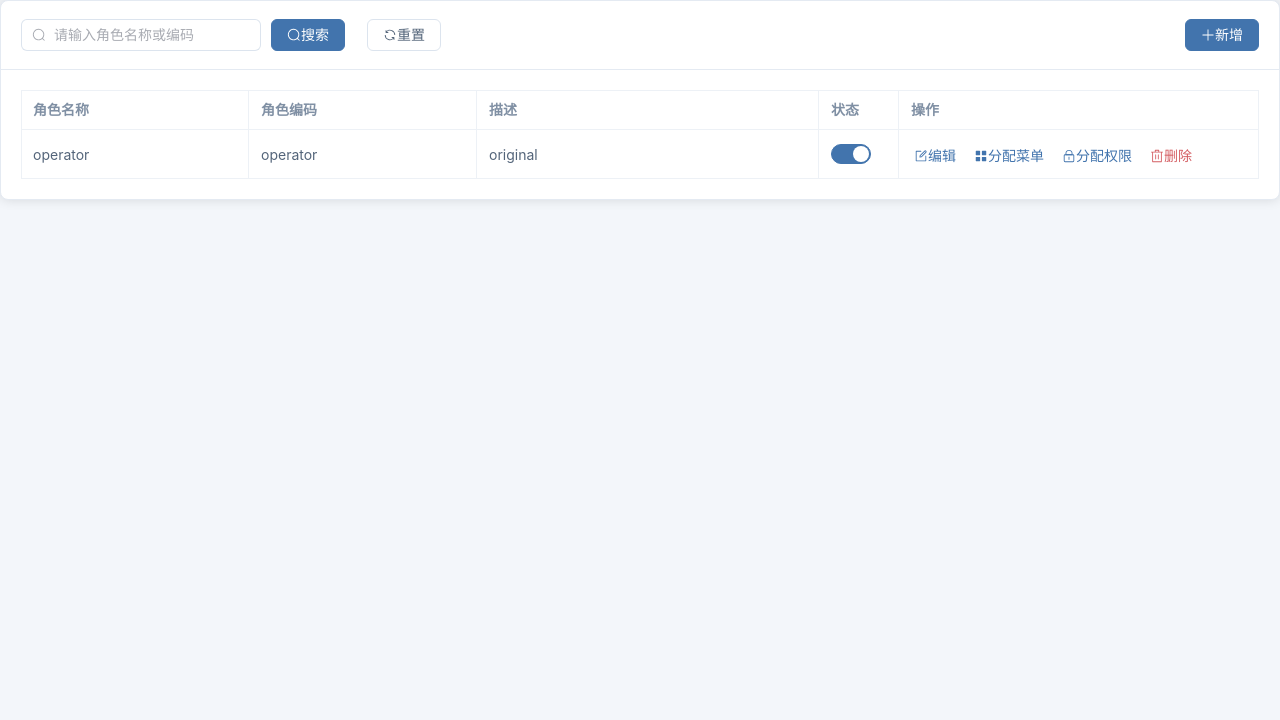
Test: role actions › editing preserves the readonly code and sends the modified description
The width and height of the screenshot is (1280, 720).
Click the button "编辑": [935, 156] box x1=911 y1=146 x2=959 y2=166
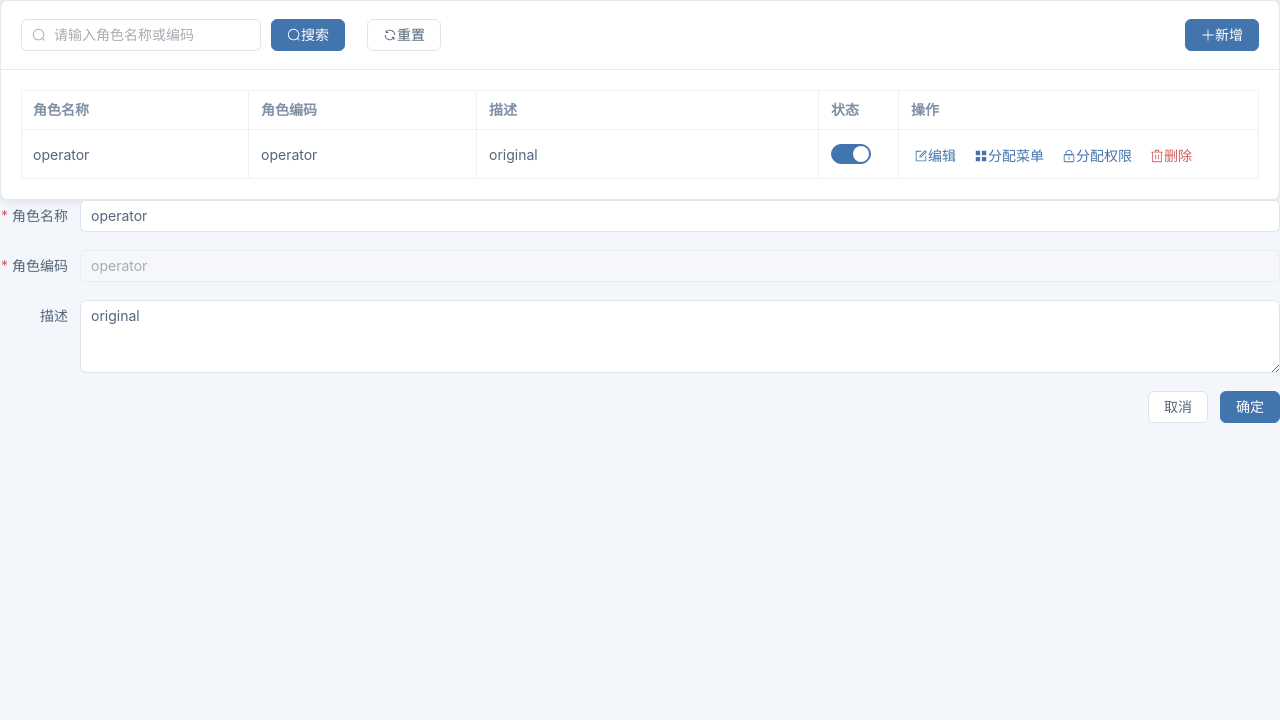
Now the field with placeholder "角色编码" is disabled, box x1=91 y1=251 x2=1269 y2=281
Replace the text in the text box with placeholder "描述" with "Changed description": [680, 336] box x1=80 y1=300 x2=1279 y2=373
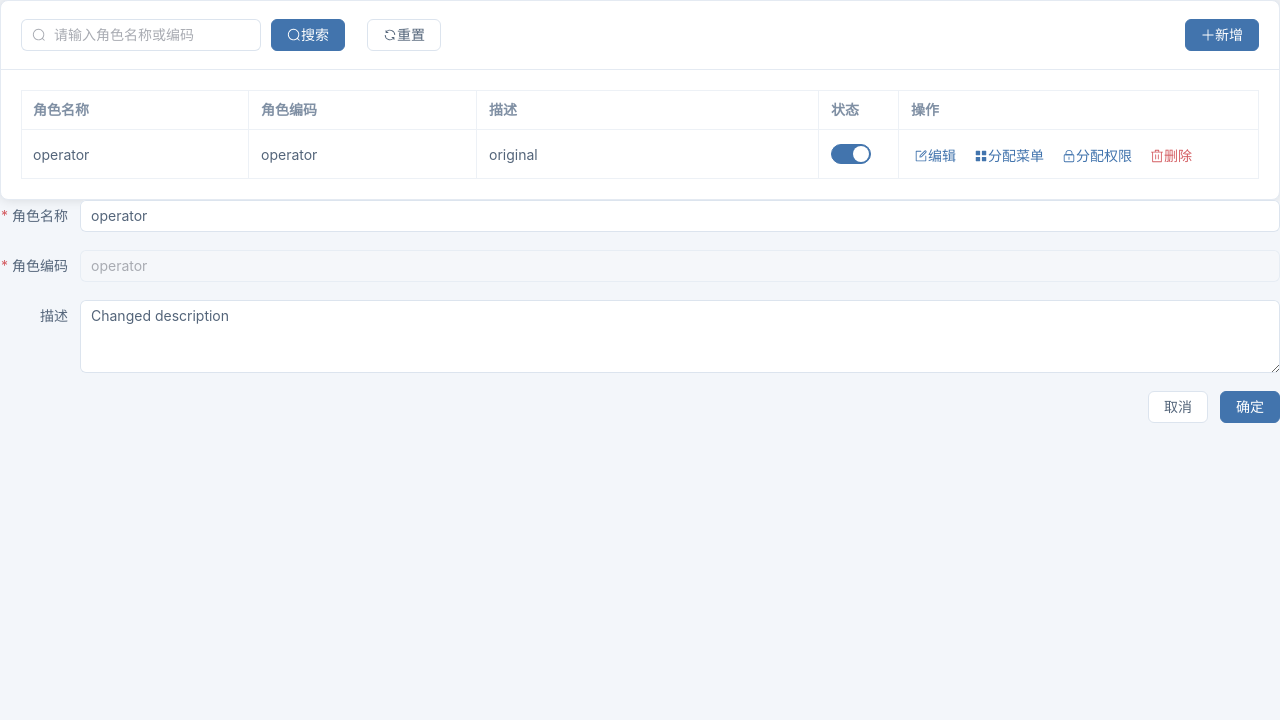
Click the button "确定": [1250, 407] box x1=1220 y1=391 x2=1279 y2=423
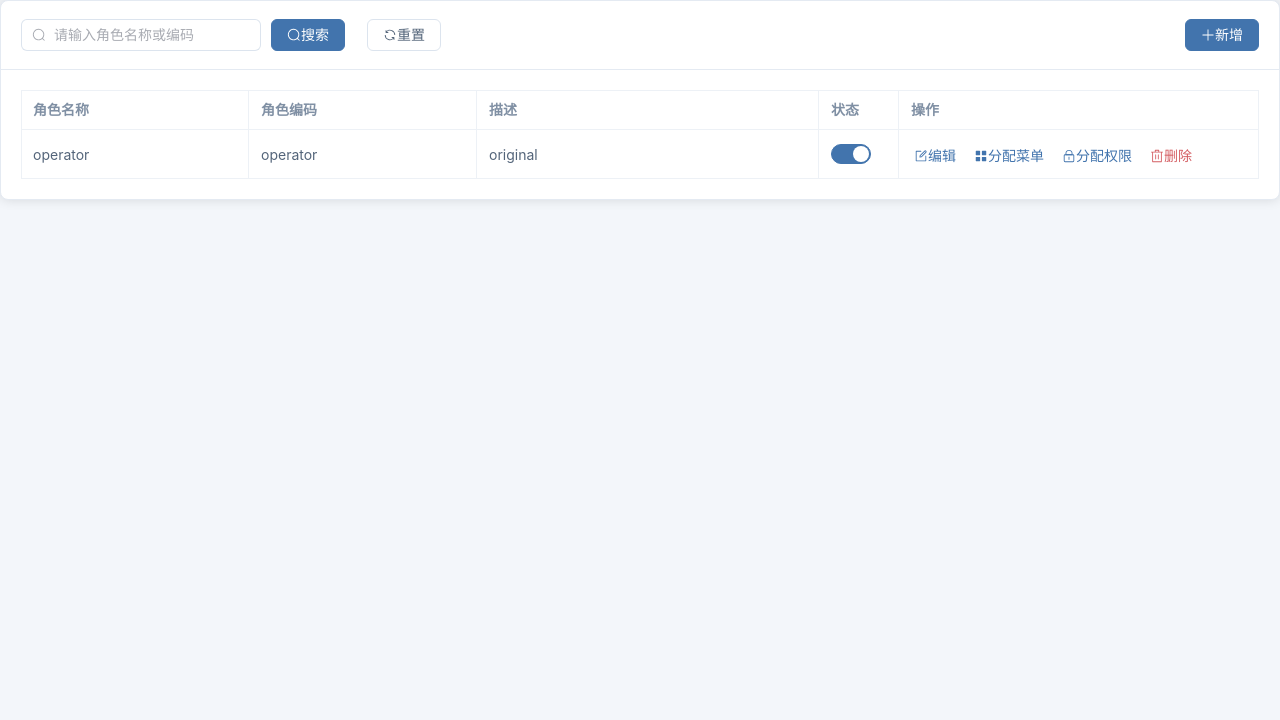
Now no dialogs are shown
